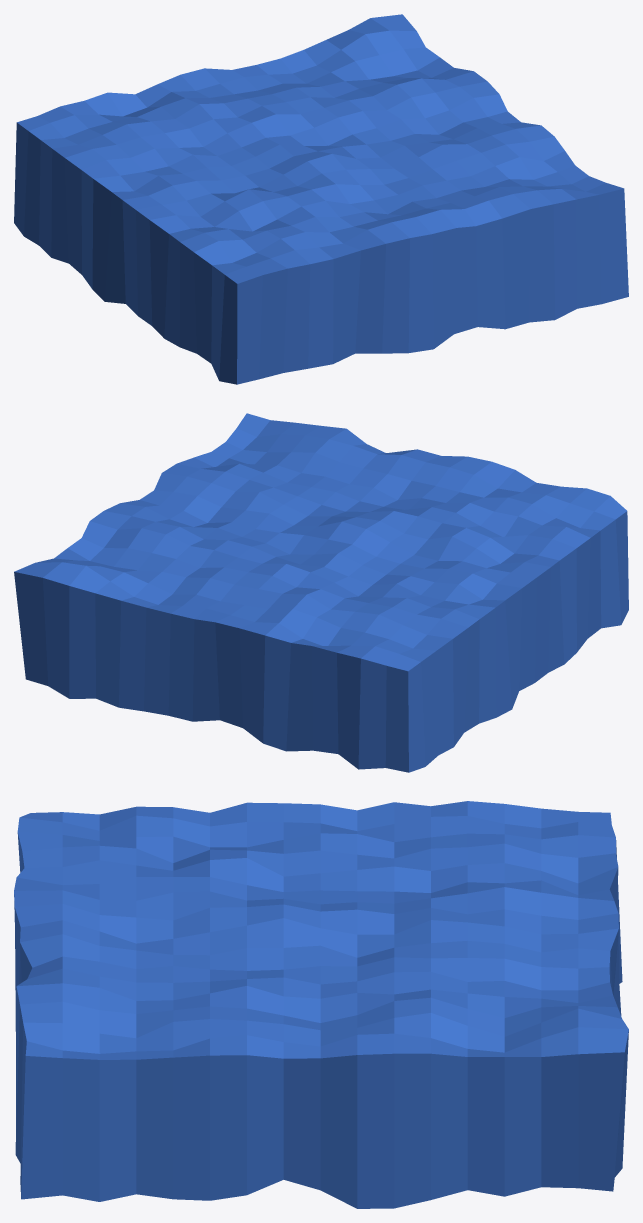
Rendered from mar.fbx.
3 views of the same model, one above another, from view 1: azimuth 30°, elevation 25°; view 2: azimuth 150°, elevation 25°; view 3: azimuth 270°, elevation 25° (orthographic). The views are drawn at different scales.
Parts seen in each view (by area): view 1: Plane; view 2: Plane; view 3: Plane.
Boxes of the visible parts, box(x1,y1,x2,y2) form: Plane: box(14, 14, 628, 384); Plane: box(14, 413, 628, 772); Plane: box(14, 801, 628, 1208).
Size of the model in its own units: 29.04 by 8.95 by 29.32.
